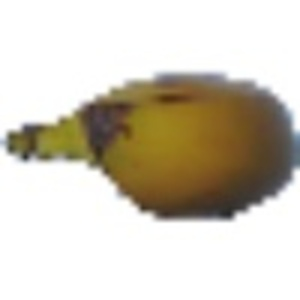banana: (2, 66, 295, 217)
